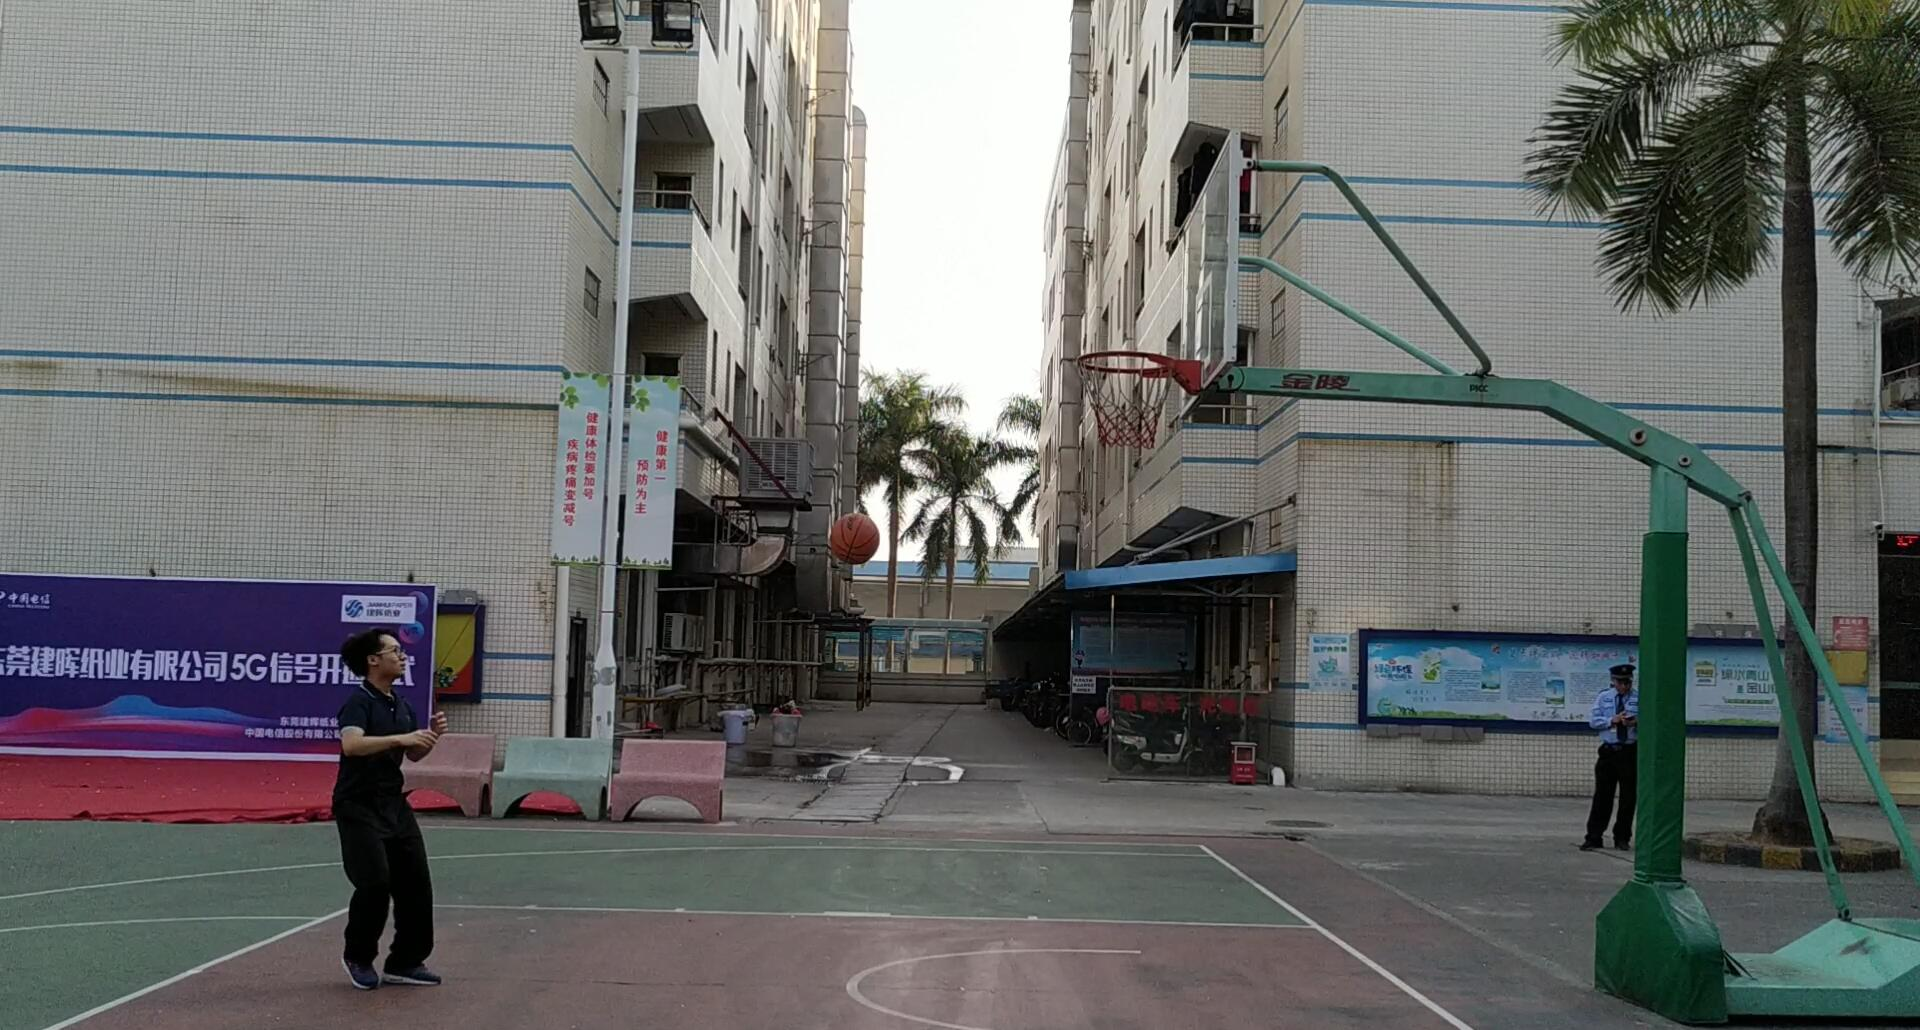basketball: (822, 509, 885, 566)
